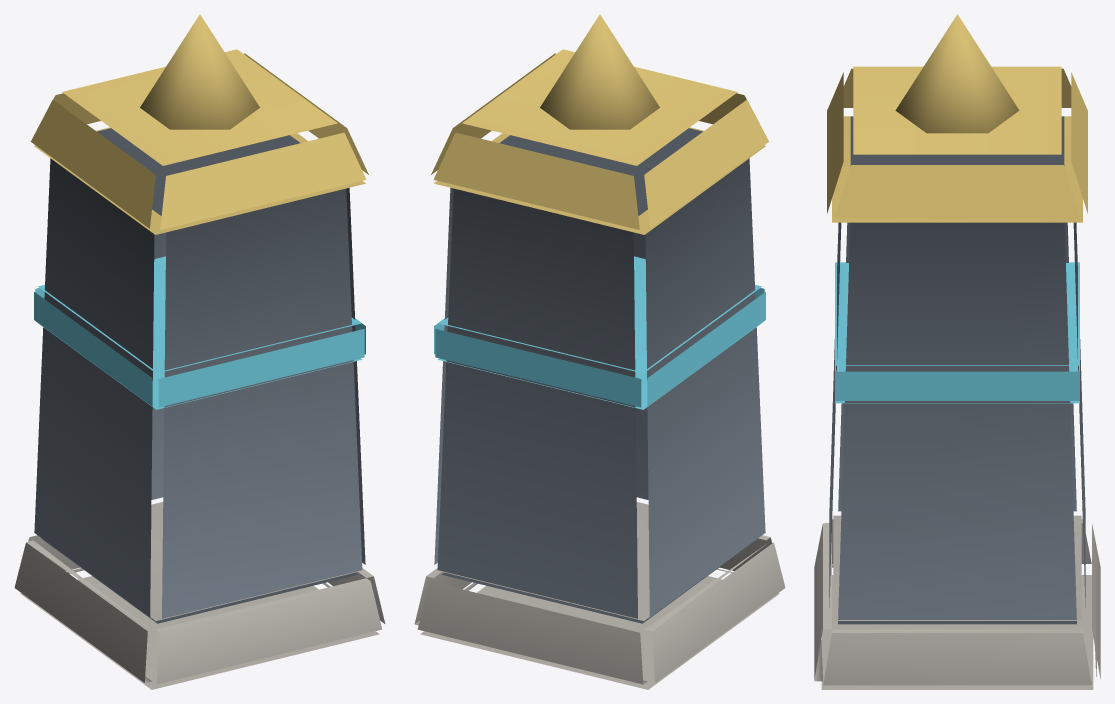
Rendered from wall_lv3_pillar_lod2.glb.
3 views of the same model, side by side, from view 1: azimuth 30°, elevation 25°; view 2: azimuth 150°, elevation 25°; view 3: azimuth 270°, elevation 25° (orthographic). The views are drawn at different scales.
Visible parts, largest first — view 1: wall_lv3_pillar.001; view 2: wall_lv3_pillar.001; view 3: wall_lv3_pillar.001.
Part boxes in pixels (x1,y1,x2,y2): wall_lv3_pillar.001: (14,14,385,689); wall_lv3_pillar.001: (414,14,785,689); wall_lv3_pillar.001: (814,14,1100,689).
Bounding box in the file's own units: 0.9703 × 2.31 × 0.9703.
